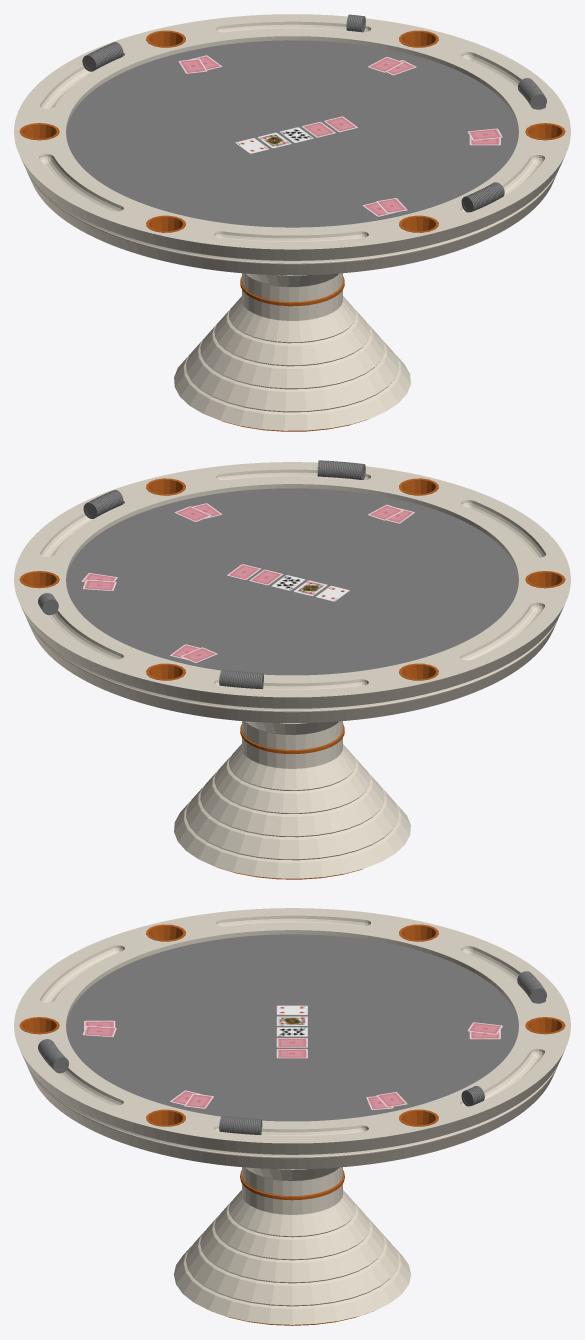
Rendered from PokerTable.FBX.
3 renders of one model, top to bottom at view 1: azimuth 30°, elevation 25°; view 2: azimuth 150°, elevation 25°; view 3: azimuth 270°, elevation 25°, orthographic.
Parts seen in each view (by area): view 1: pole, top, nojka, cap; view 2: pole, top, nojka, cap; view 3: pole, top, nojka, cap.
Part boxes in pixels (left/top/right/bottom): pole: left=66, top=40, right=518, bottom=227; top: left=14, top=14, right=570, bottom=275; nojka: left=174, top=273, right=410, bottom=431; cap: left=19, top=30, right=565, bottom=232; pole: left=66, top=488, right=518, bottom=675; top: left=14, top=462, right=570, bottom=722; nojka: left=174, top=721, right=410, bottom=879; cap: left=19, top=478, right=565, bottom=680; pole: left=66, top=934, right=518, bottom=1121; top: left=14, top=908, right=570, bottom=1169; nojka: left=173, top=1167, right=411, bottom=1325; cap: left=19, top=924, right=565, bottom=1126.
Size of the model in its own units: 1596 by 838 by 1597.
